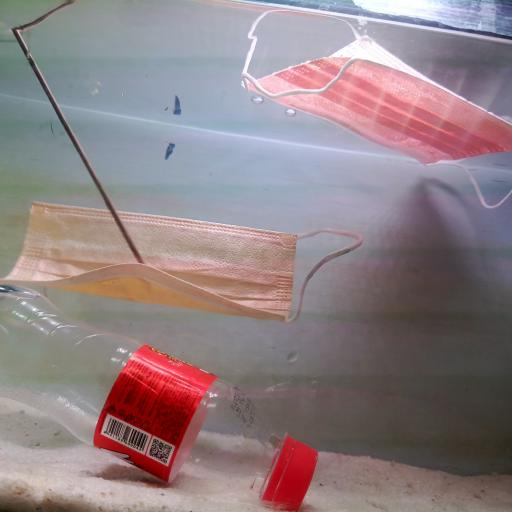bottle_cap: (266, 429, 322, 512)
mask: (239, 45, 512, 209), (3, 202, 369, 322)
plastic_bottle: (0, 288, 327, 512)
